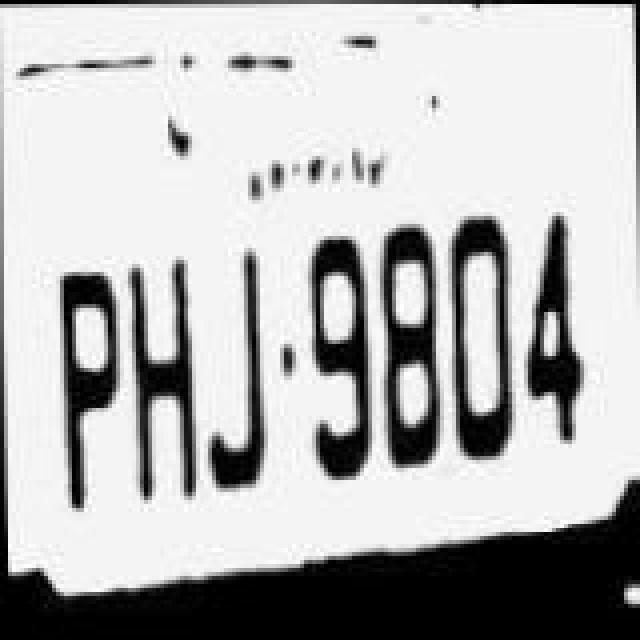4: (516, 196, 592, 460)
8: (368, 210, 444, 478)
9: (294, 228, 374, 496)
H: (126, 258, 202, 514)
J: (200, 248, 276, 512)
O: (444, 204, 520, 468)
P: (42, 262, 126, 530)
